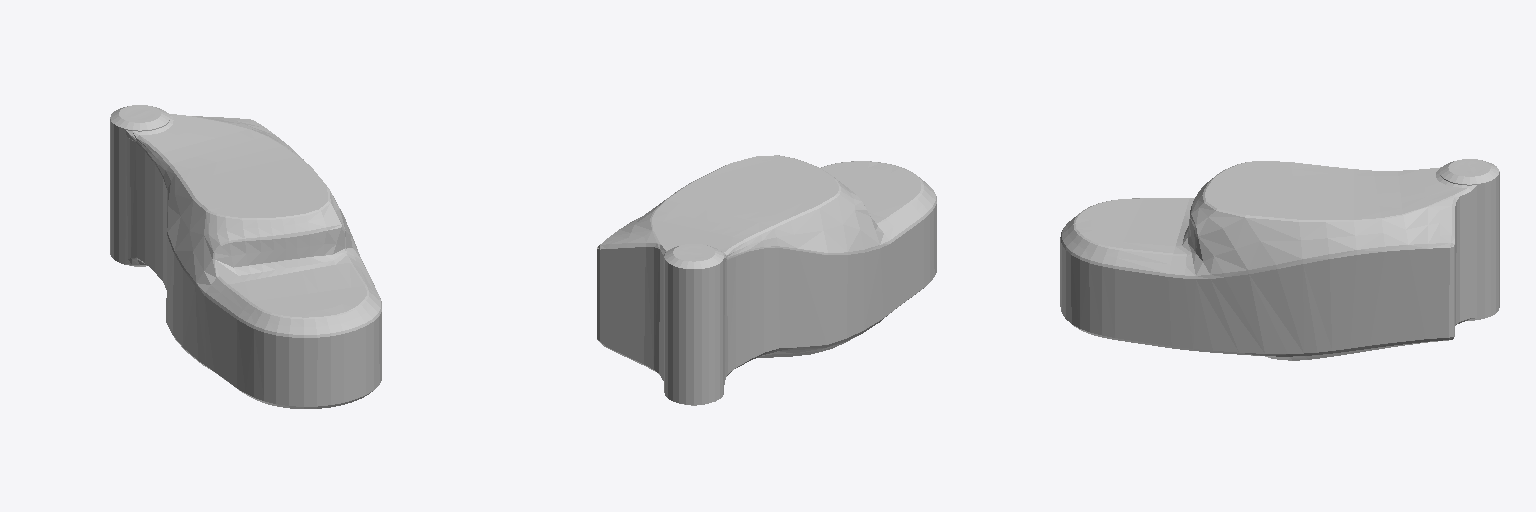
The model's file is RightThigh.obj.
3 renders of one model, left to right at view 1: azimuth 30°, elevation 25°; view 2: azimuth 150°, elevation 25°; view 3: azimuth 270°, elevation 25°, orthographic.
Parts seen in each view (by area): view 1: RightThigh_Retopo; view 2: RightThigh_Retopo; view 3: RightThigh_Retopo.
Boxes of the visible parts, box(x1,y1,x2,y2) form: RightThigh_Retopo: box(110, 105, 381, 408); RightThigh_Retopo: box(597, 155, 936, 405); RightThigh_Retopo: box(1060, 159, 1499, 360).
Size of the model in its own units: 0.1933 by 0.1649 by 0.4212.